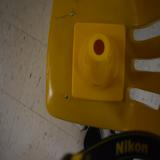cone: (72, 23, 126, 101)
